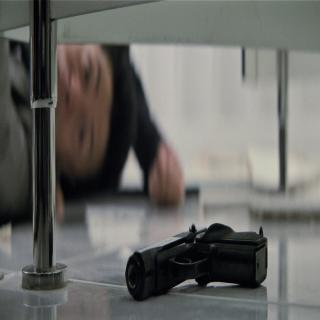gun: (123, 198, 275, 308)
